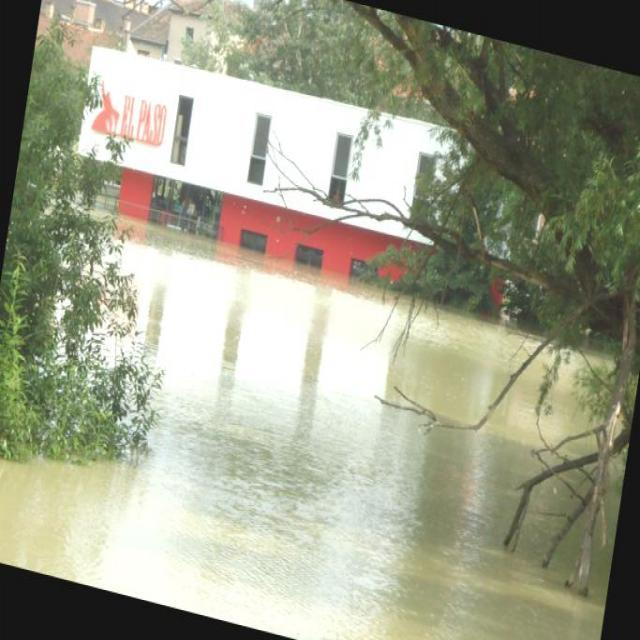flood: (4, 201, 639, 639)
